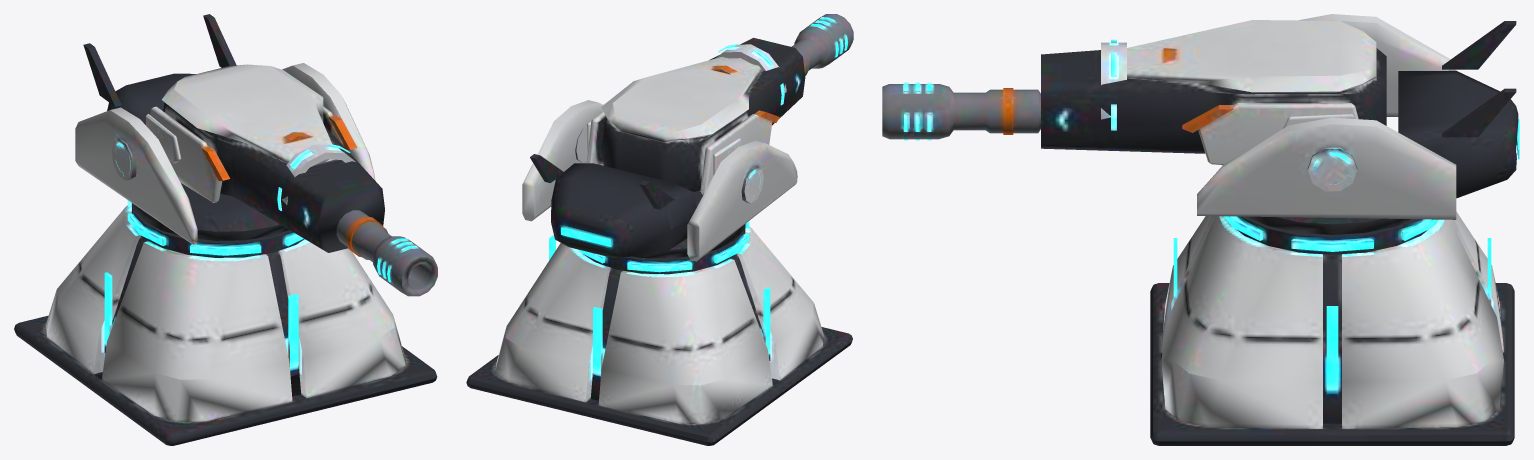
File: R4W_Basic_LOD1.glb
3 views of the same model, side by side, from view 1: azimuth 30°, elevation 25°; view 2: azimuth 150°, elevation 25°; view 3: azimuth 270°, elevation 25° (orthographic). The views are drawn at different scales.
Parts seen in each view (by area): view 1: R4W_Basic_LOD1; view 2: R4W_Basic_LOD1; view 3: R4W_Basic_LOD1.
Boxes of the visible parts, x1,y1,x2,y2 form: R4W_Basic_LOD1: [14, 14, 437, 445]; R4W_Basic_LOD1: [466, 14, 853, 445]; R4W_Basic_LOD1: [882, 14, 1519, 445].
Bounding box in the file's own units: 0.5 × 0.4936 × 0.8748.
4 materials, 4 textured.
